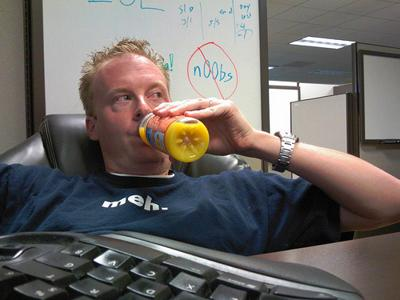person: (2, 38, 400, 261)
